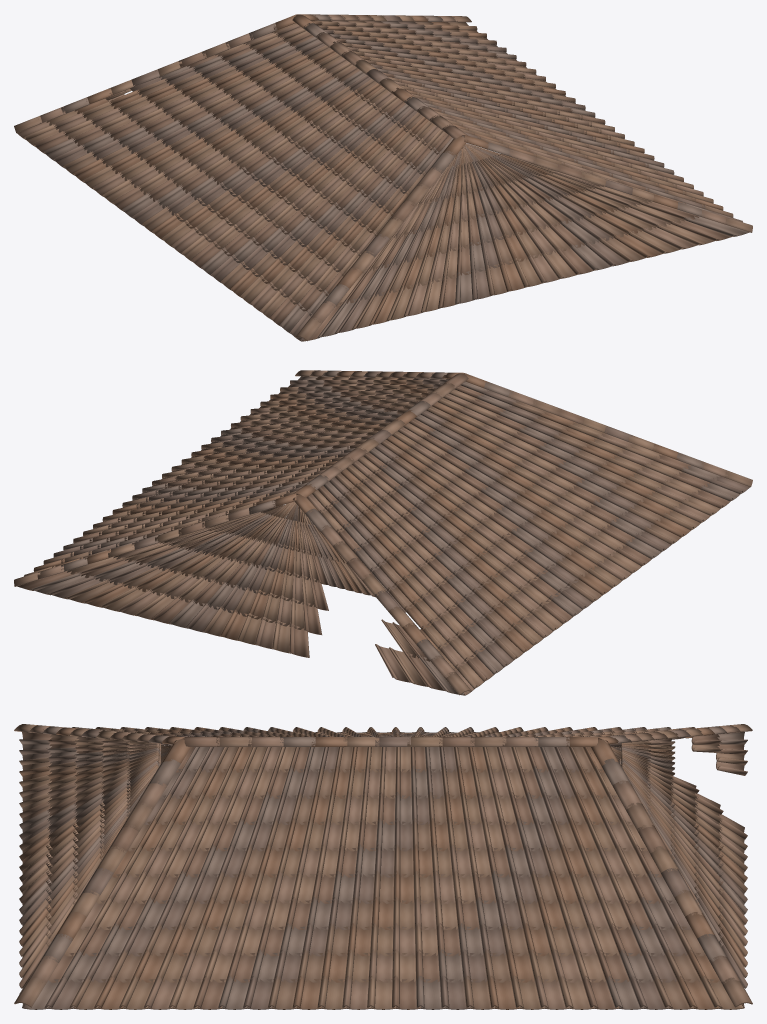
The model's file is BW_Bakery01_ClayRoof.fbx.
The picture shows the model from 3 angles, top to bottom: view 1: azimuth 30°, elevation 25°; view 2: azimuth 150°, elevation 25°; view 3: azimuth 270°, elevation 25°; orthographic projection. The views are drawn at different scales.
Parts seen in each view (by area): view 1: BW_Bakery01_ClayRoof; view 2: BW_Bakery01_ClayRoof; view 3: BW_Bakery01_ClayRoof.
Boxes of the visible parts, <box> form: BW_Bakery01_ClayRoof: <box>14,14,752,341</box>; BW_Bakery01_ClayRoof: <box>14,370,752,695</box>; BW_Bakery01_ClayRoof: <box>14,724,752,1009</box>.
Size of the model in its own units: 7.63 by 1.7 by 8.49.
